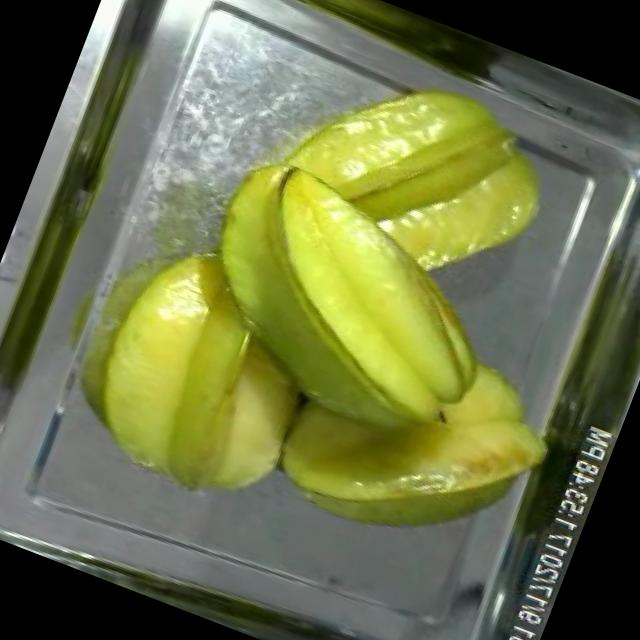fruit: (148, 130, 545, 496), (255, 294, 582, 587), (260, 31, 582, 318), (55, 222, 352, 530)
